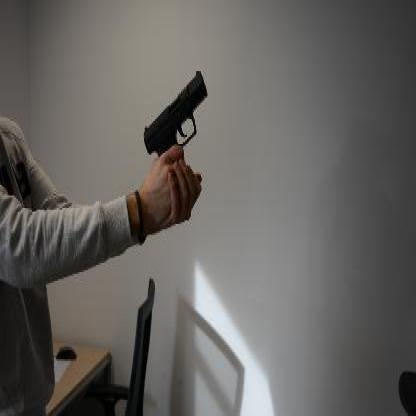pistol: (142, 66, 208, 164)
